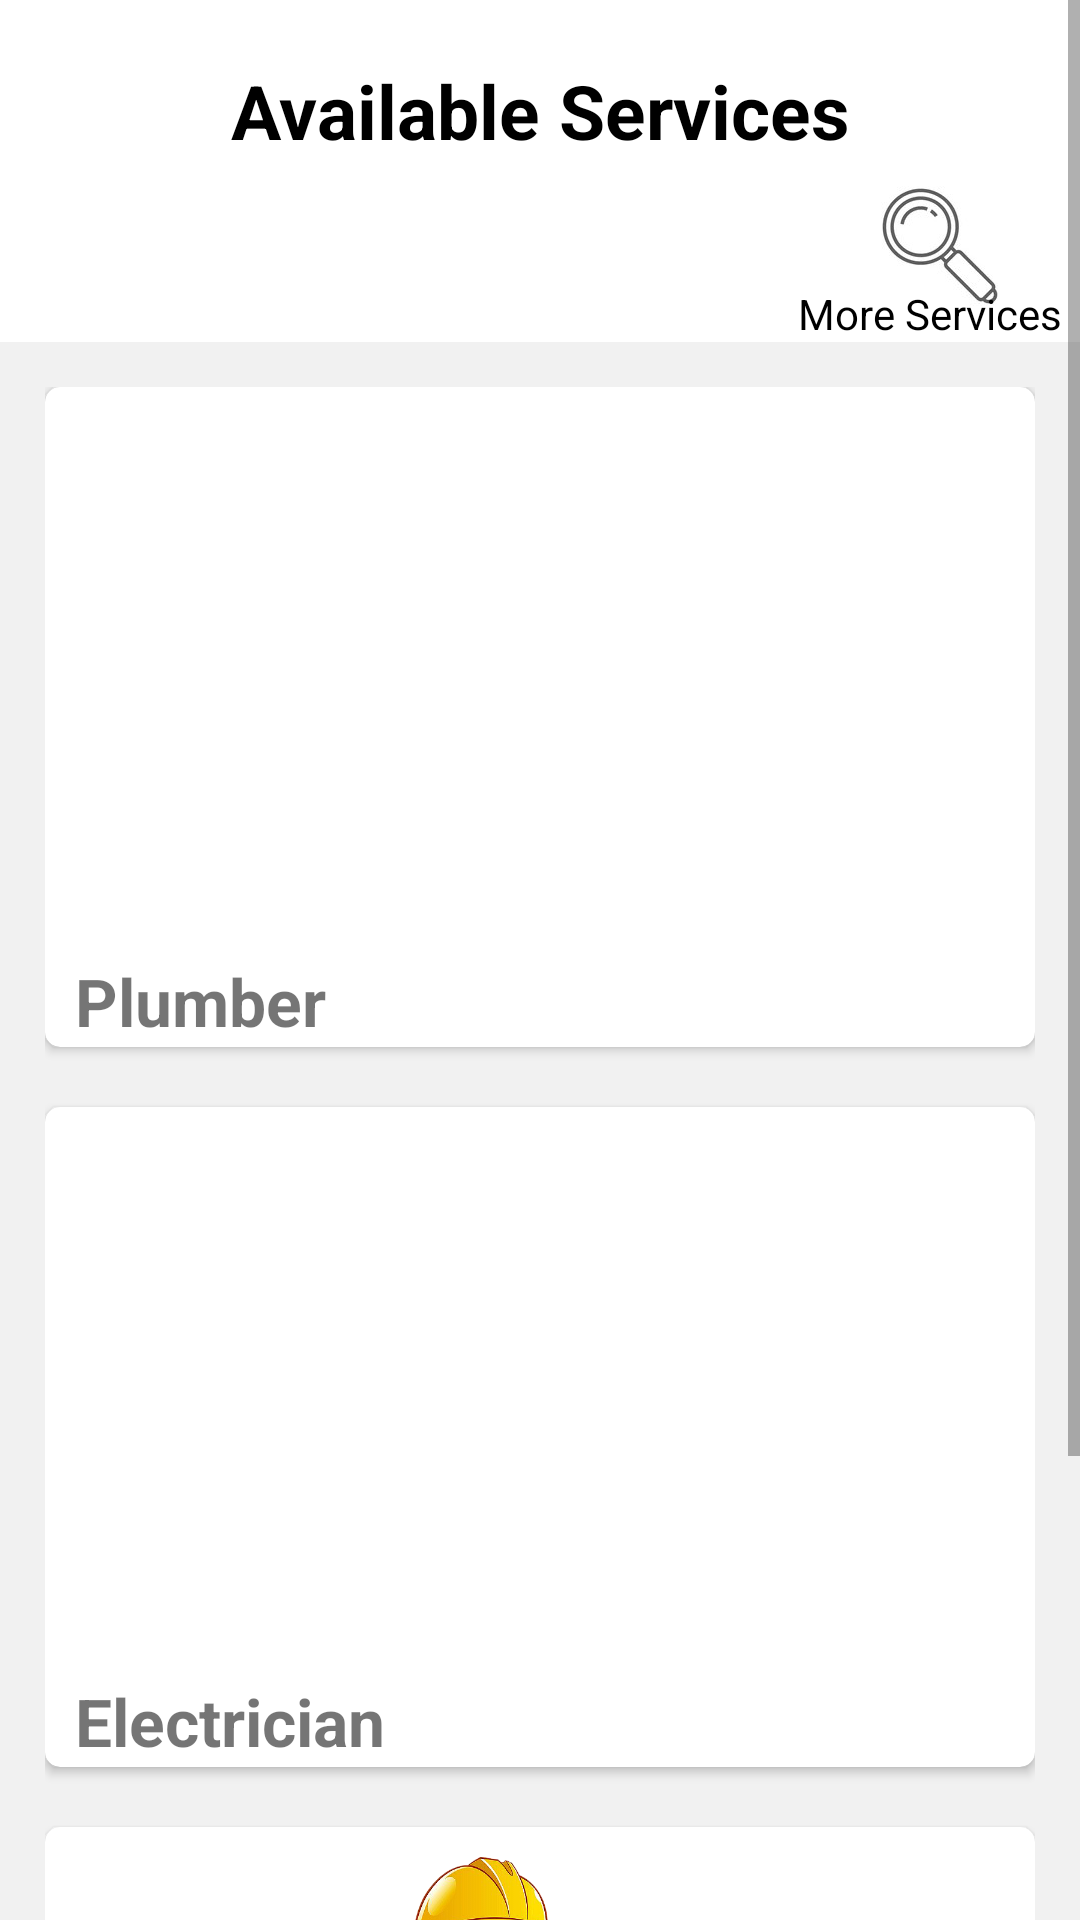

Icons on this 1080px×1920px Android screen, each with its box as (x1, y1, x2, y2):
search: (882, 188, 998, 304)
